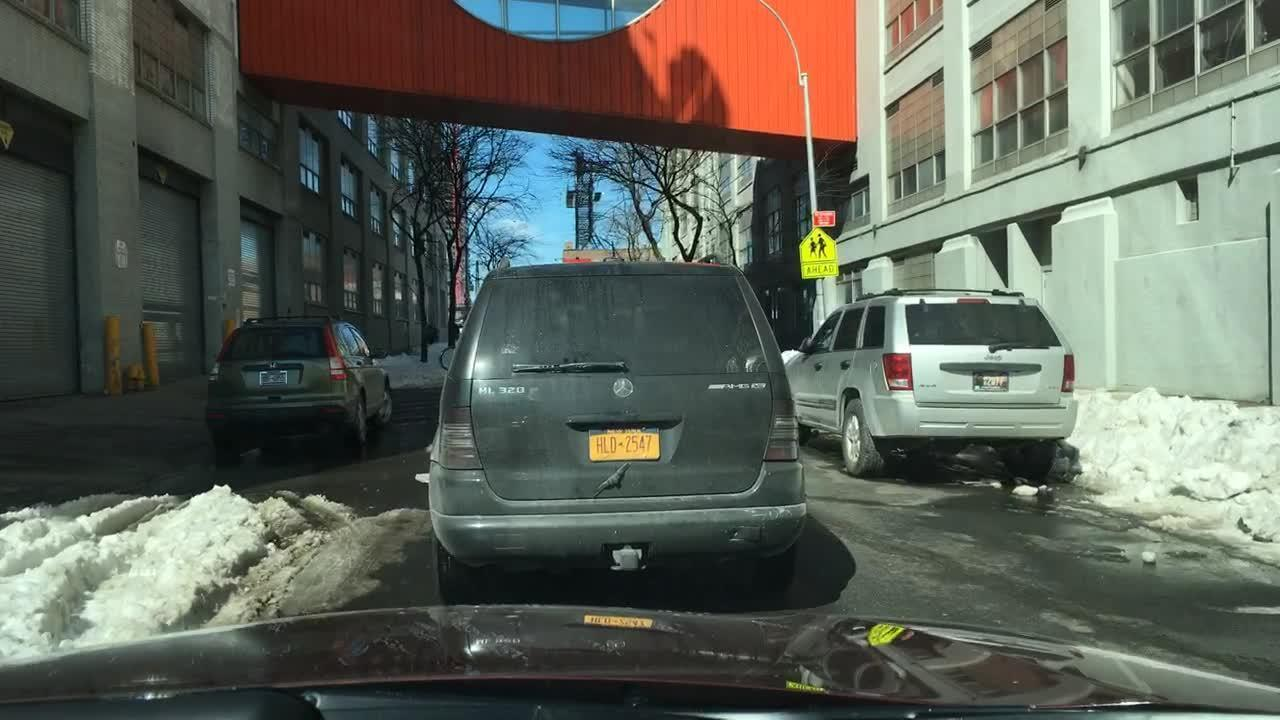Mercedes: (606, 369, 637, 403)
